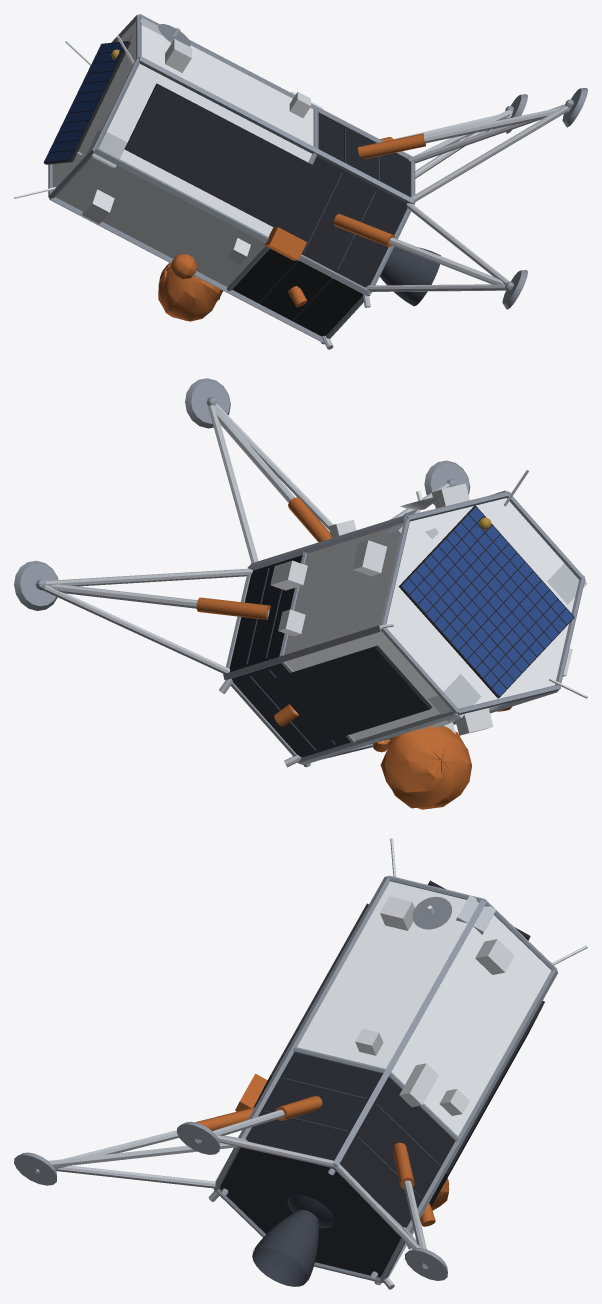
The model's file is odysseus.glb.
3 renders of one model, top to bottom at view 1: azimuth 30°, elevation 25°; view 2: azimuth 150°, elevation 25°; view 3: azimuth 270°, elevation 25°, orthographic. The views are drawn at different scales.
Parts seen in each view (by area): view 1: body, foil, solar-panel; view 2: body, solar-panel, foil; view 3: body, foil.
Boxes of the visible parts, x1,y1,x2,y2 form: body: (14, 14, 587, 349); foil: (86, 17, 425, 321); solar-panel: (44, 41, 126, 162); body: (14, 378, 587, 767); solar-panel: (402, 507, 573, 696); foil: (196, 497, 587, 809); body: (14, 838, 587, 1289); foil: (195, 883, 496, 1226).
Bounding box in the file's own units: 5.23 × 3.1 × 4.74.
